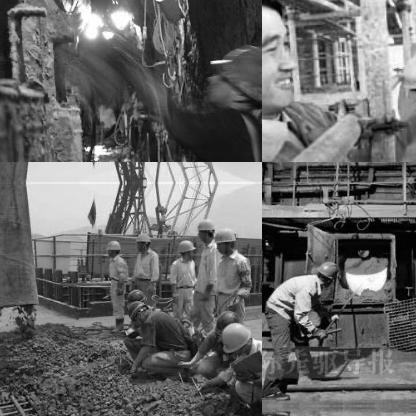Helmet: (262, 0, 312, 119), (196, 37, 261, 123), (218, 316, 254, 358), (398, 48, 415, 99), (212, 224, 235, 252), (314, 259, 340, 283), (194, 214, 216, 242), (214, 307, 238, 331), (122, 284, 148, 306), (124, 296, 146, 318), (102, 236, 124, 258), (134, 228, 152, 252), (178, 236, 196, 260)
